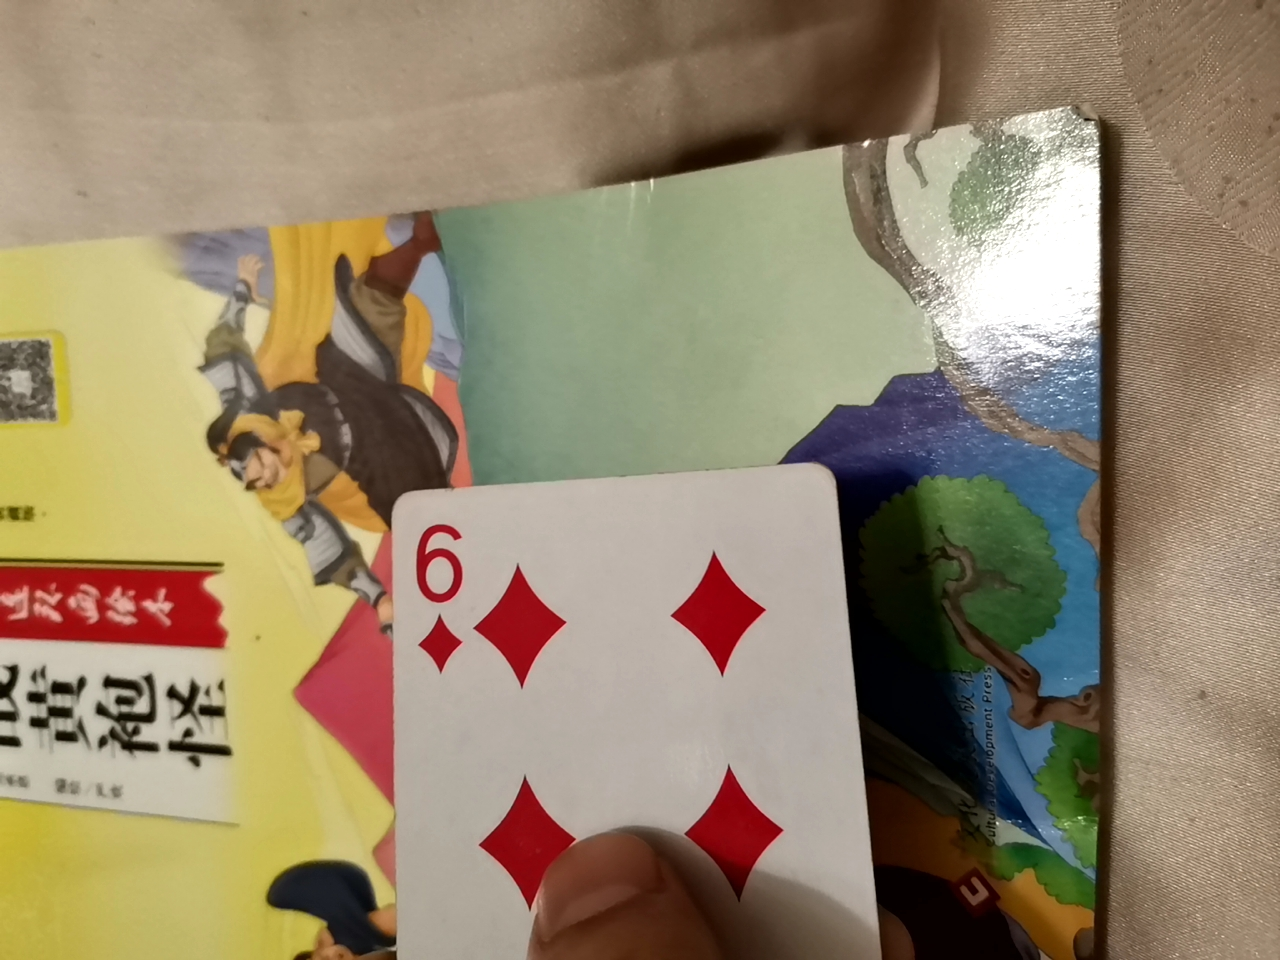fk 6: (345, 479, 888, 946)
